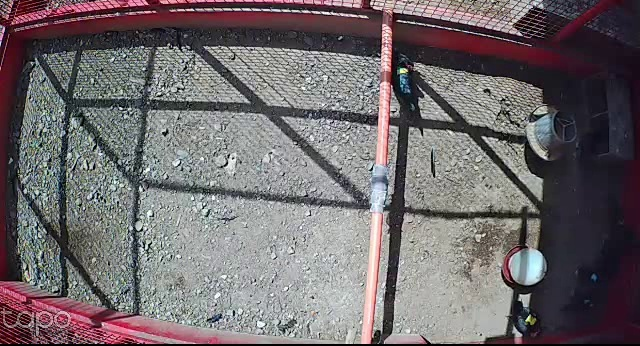Chicken: (381, 46, 421, 117), (509, 297, 549, 345)
Drinker: (502, 243, 548, 290)
Feeder: (523, 103, 579, 163)
Saddle_Color_Yellow: (524, 312, 539, 328)
Saddle_Color_YellowGreen: (397, 62, 410, 74)
